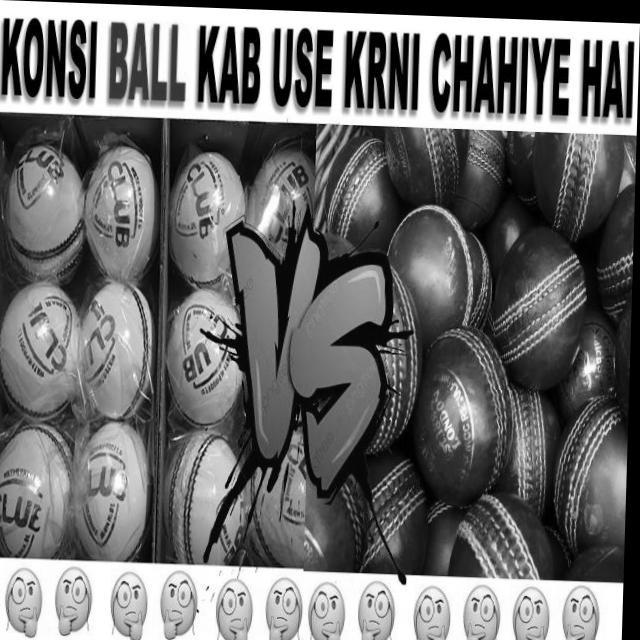cricket ball: (497, 221, 590, 387)
